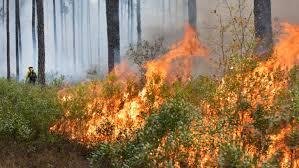fire: (57, 43, 299, 168)
